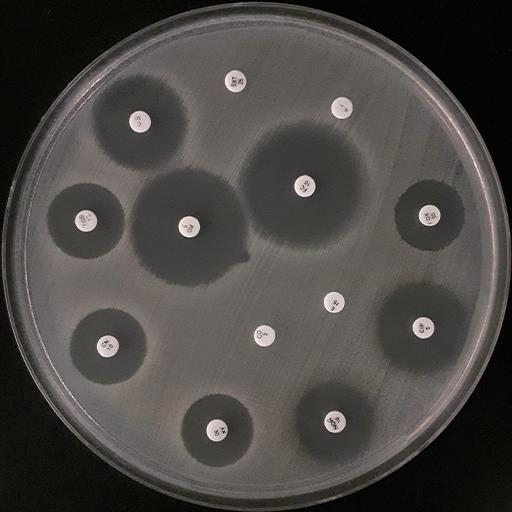disc: (129, 111, 151, 133), (75, 210, 97, 232), (97, 335, 119, 357), (324, 411, 346, 433), (225, 70, 246, 92), (331, 97, 352, 119), (294, 175, 315, 197), (179, 216, 200, 238), (254, 325, 275, 347), (413, 317, 434, 339), (419, 205, 440, 226), (207, 420, 228, 441), (324, 292, 344, 313)
